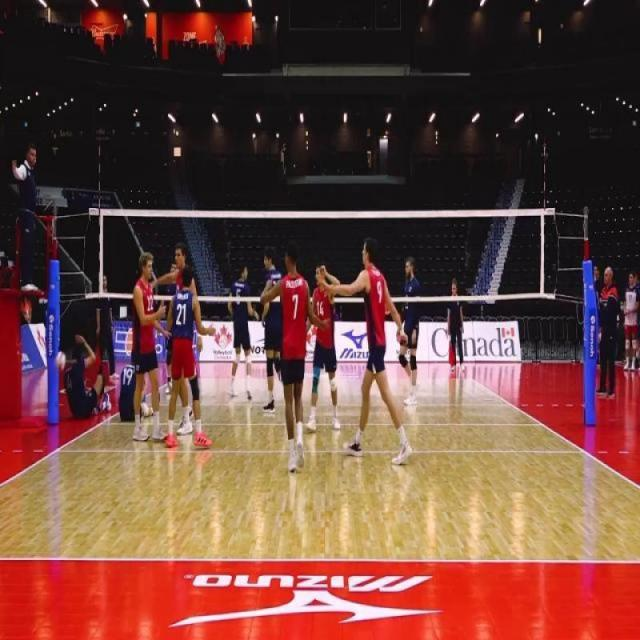volleyball: (54, 350, 66, 372)
